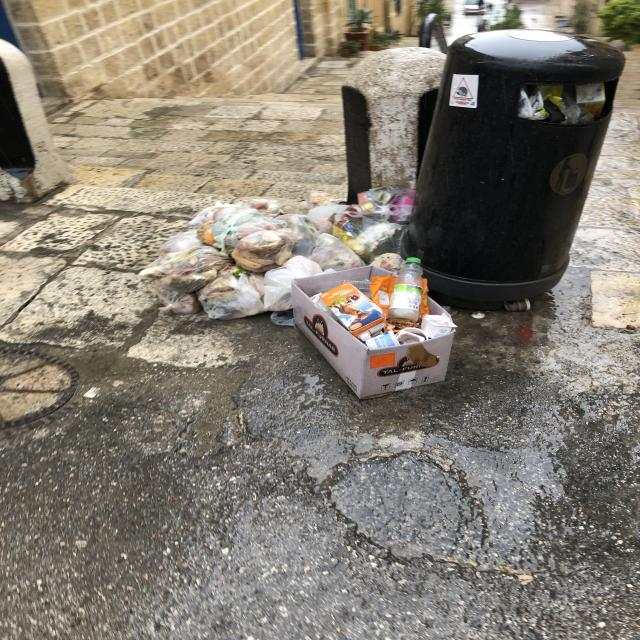Organic Waste -White Bag-: (141, 243, 235, 292), (333, 210, 410, 268), (196, 268, 268, 321), (264, 257, 334, 311), (208, 209, 288, 254), (234, 229, 304, 273), (188, 199, 284, 226), (307, 233, 368, 275), (355, 188, 418, 226), (273, 214, 318, 258), (157, 225, 210, 257), (308, 203, 357, 234), (156, 285, 199, 318)
Other: (293, 259, 456, 401), (511, 80, 616, 127), (501, 297, 537, 318)
